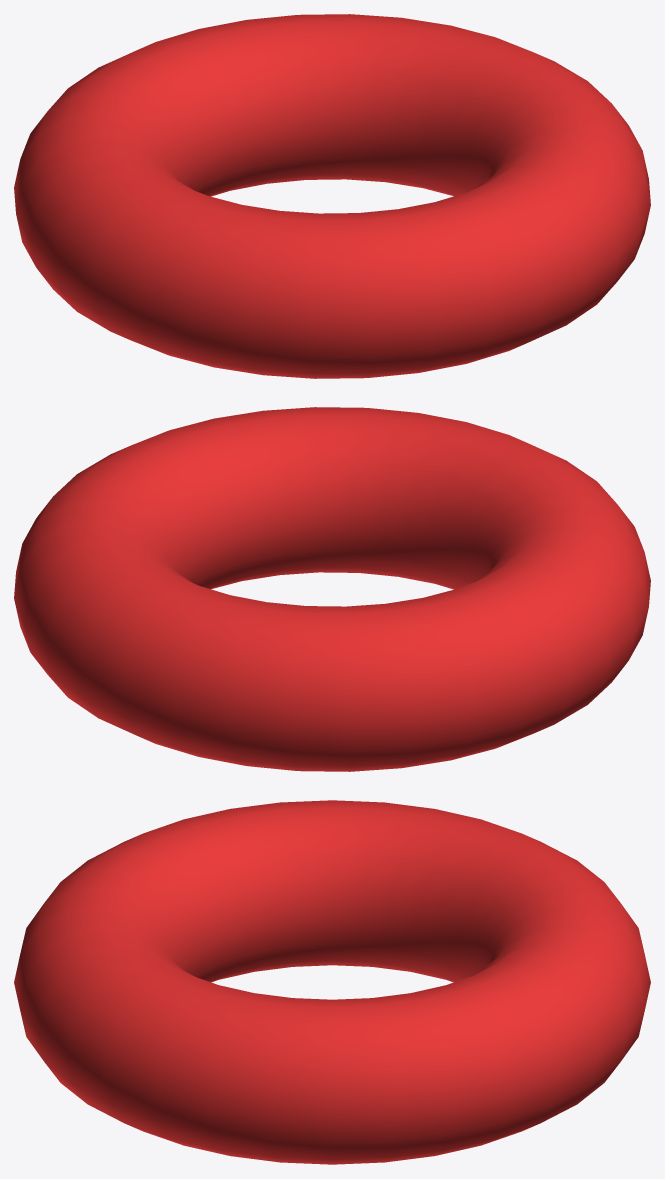
The picture shows the model from 3 angles, top to bottom: view 1: azimuth 30°, elevation 25°; view 2: azimuth 150°, elevation 25°; view 3: azimuth 270°, elevation 25°; orthographic projection.
Size of the model in its own units: 2.7 by 0.7 by 2.7.
